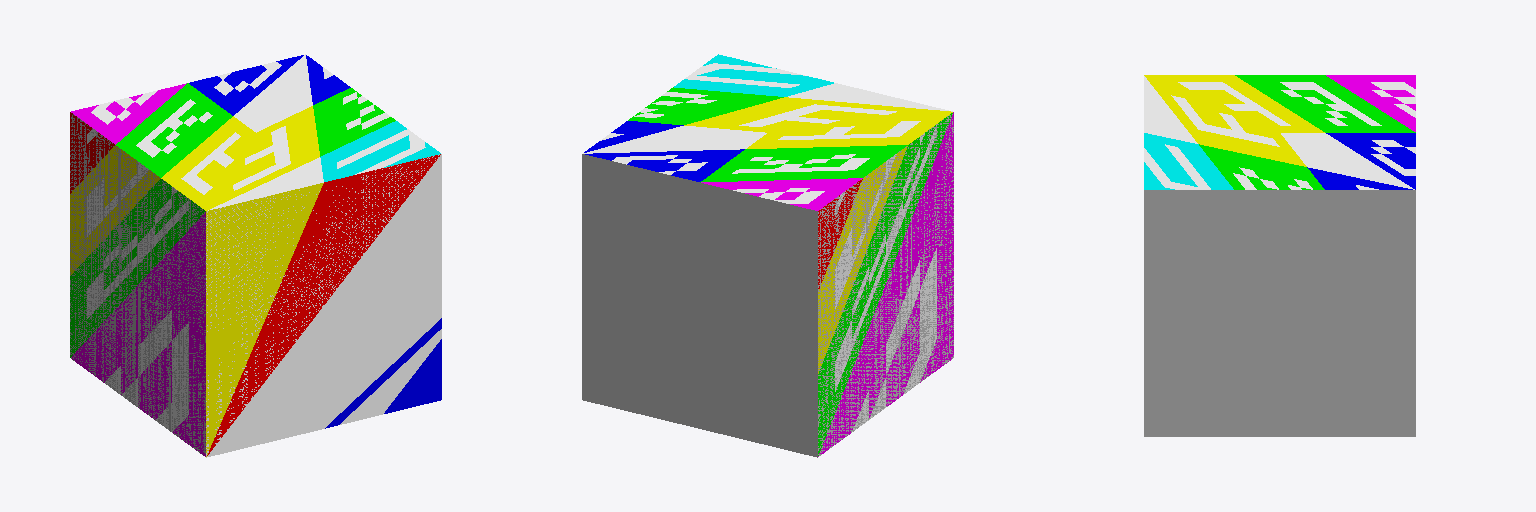
3 renders of one model, left to right at view 1: azimuth 30°, elevation 25°; view 2: azimuth 150°, elevation 25°; view 3: azimuth 270°, elevation 25°, orthographic.
Parts seen in each view (by area): view 1: Cube; view 2: Cube; view 3: Cube.
Boxes of the visible parts, <box> form: Cube: <box>70,54,441,457</box>; Cube: <box>582,54,953,457</box>; Cube: <box>1144,75,1415,436</box>.
Size of the model in its own units: 2 by 2 by 2.
1 materials, 1 textured.